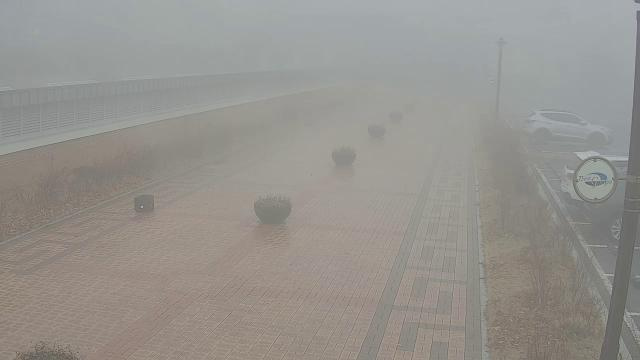bag: (134, 194, 154, 214)
